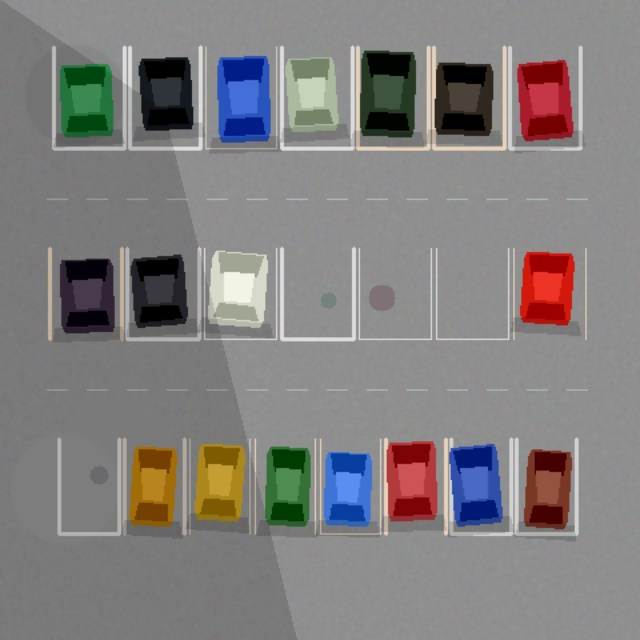space-empty: (281, 248, 353, 339), (359, 248, 431, 339), (436, 248, 508, 339), (59, 439, 119, 533)
space-occupied: (53, 47, 124, 148), (129, 47, 200, 148), (205, 47, 276, 148), (281, 47, 352, 148), (357, 47, 428, 148), (433, 47, 504, 148), (509, 47, 580, 148), (49, 248, 121, 339), (127, 248, 199, 339), (204, 248, 276, 339), (513, 248, 585, 339), (124, 439, 184, 533), (189, 439, 249, 533), (255, 439, 315, 533), (320, 439, 380, 533), (385, 439, 445, 533), (451, 439, 511, 533), (516, 439, 576, 533)
